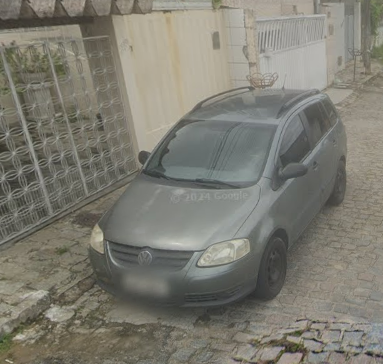car: (87, 72, 349, 305)
